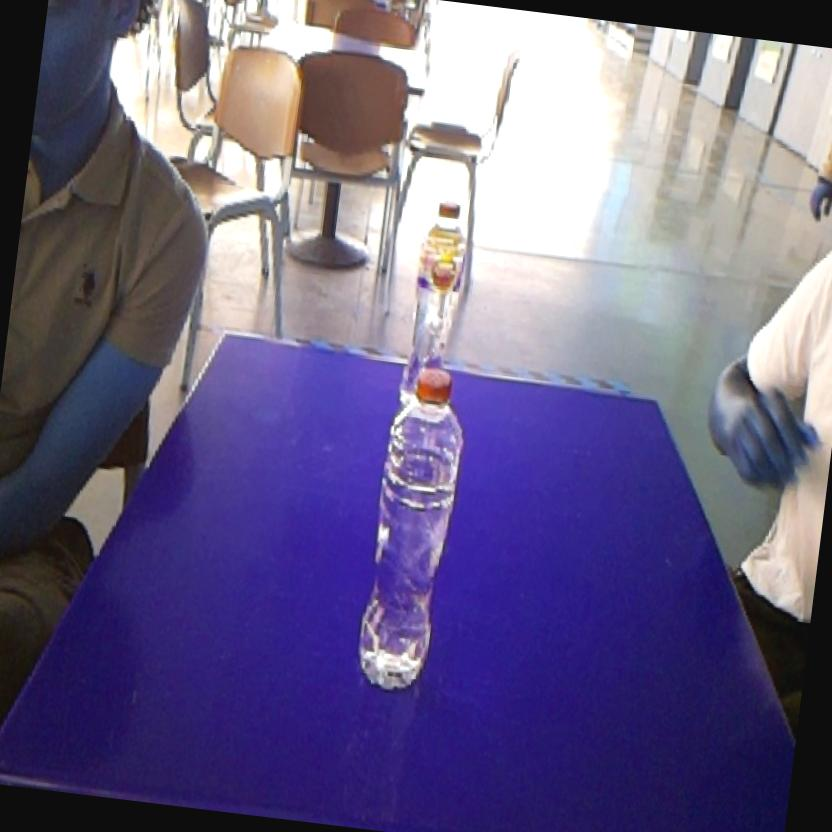good: (398, 190, 486, 365)
no_label: (340, 351, 480, 704)
